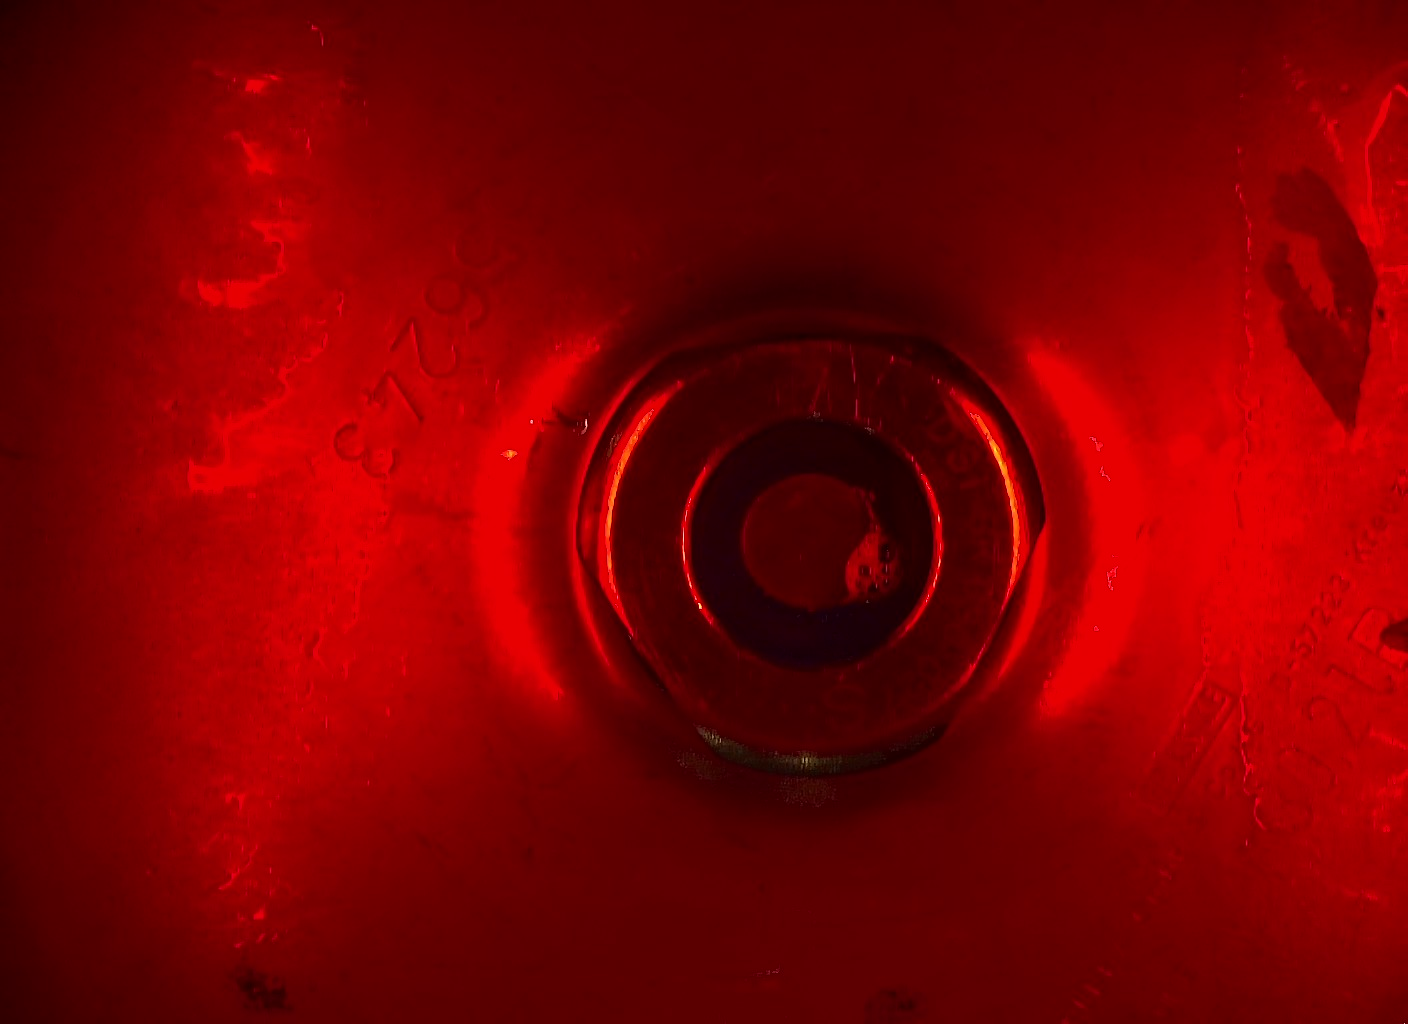pena: (842, 491, 908, 613)
